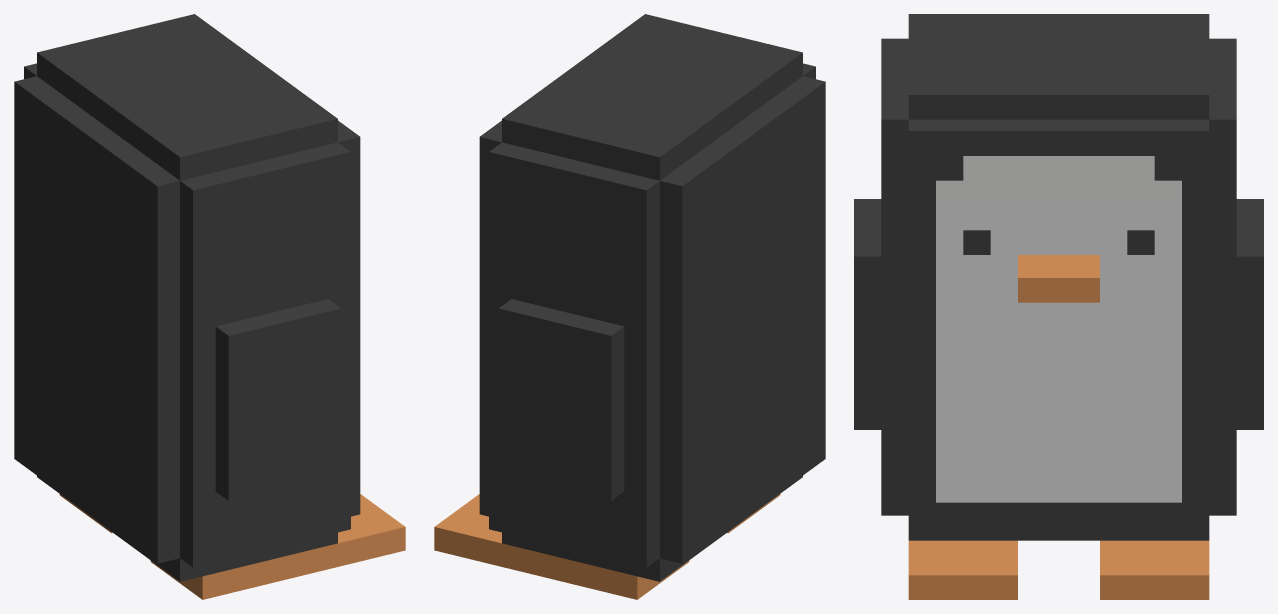
3 views of the same model, side by side, from view 1: azimuth 30°, elevation 25°; view 2: azimuth 150°, elevation 25°; view 3: azimuth 270°, elevation 25° (orthographic). The views are drawn at different scales.
Parts seen in each view (by area): view 1: VoxTransform.001; view 2: VoxTransform.001; view 3: VoxTransform.001.
Part boxes in pixels (bbox=[...]): VoxTransform.001: bbox=[14, 14, 405, 599]; VoxTransform.001: bbox=[434, 14, 825, 599]; VoxTransform.001: bbox=[854, 14, 1263, 599].
Bounding box in the file's own units: 4.7 × 8.12 × 6.41.
